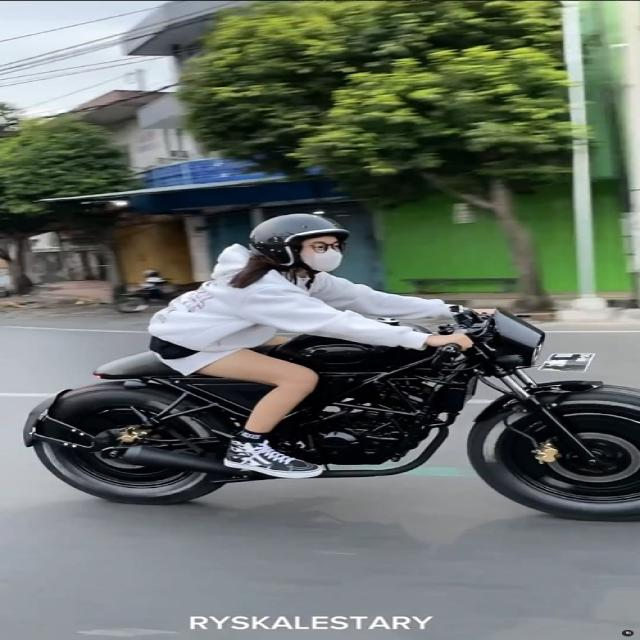helmet: (245, 210, 354, 278)
